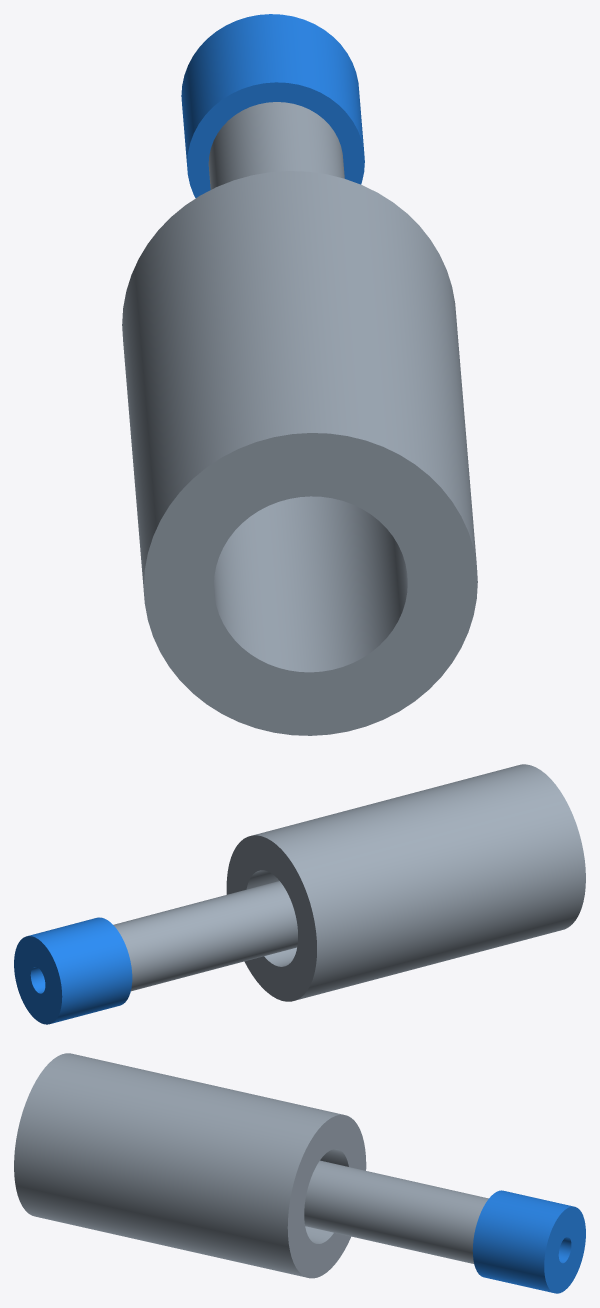
Rendered from bb2401-3-lateral-obturator-single-gate.glb.
The picture shows the model from 3 angles, top to bottom: view 1: azimuth 30°, elevation 25°; view 2: azimuth 150°, elevation 25°; view 3: azimuth 270°, elevation 25°; orthographic projection. The views are drawn at different scales.
Parts seen in each view (by area): view 1: BB2401_3_Main_Patent_Lumen, BB2401_3_Blue_2mm_Cap, BB2401_3_Single_Instrument_Gate; view 2: BB2401_3_Main_Patent_Lumen, BB2401_3_Single_Instrument_Gate, BB2401_3_Blue_2mm_Cap; view 3: BB2401_3_Main_Patent_Lumen, BB2401_3_Single_Instrument_Gate, BB2401_3_Blue_2mm_Cap.
Part boxes in pixels (left/top/right/bottom): BB2401_3_Main_Patent_Lumen: left=122, top=171, right=477, bottom=735; BB2401_3_Blue_2mm_Cap: left=181, top=14, right=364, bottom=197; BB2401_3_Single_Instrument_Gate: left=208, top=102, right=344, bottom=189; BB2401_3_Main_Patent_Lumen: left=226, top=764, right=585, bottom=1001; BB2401_3_Single_Instrument_Gate: left=113, top=881, right=297, bottom=991; BB2401_3_Blue_2mm_Cap: left=14, top=917, right=132, bottom=1024; BB2401_3_Main_Patent_Lumen: left=14, top=1053, right=366, bottom=1278; BB2401_3_Single_Instrument_Gate: left=304, top=1160, right=488, bottom=1263; BB2401_3_Blue_2mm_Cap: left=472, top=1190, right=585, bottom=1293.
Bounding box in the file's own units: 0.0286 × 0.0124 × 0.0424.
